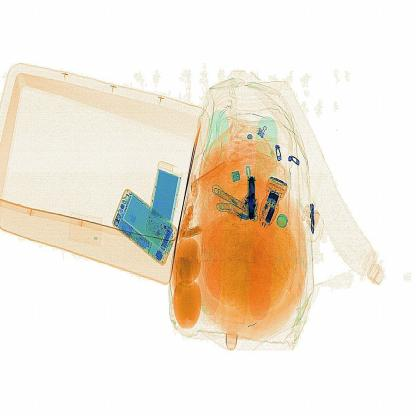scissors: (245, 167, 264, 232)
